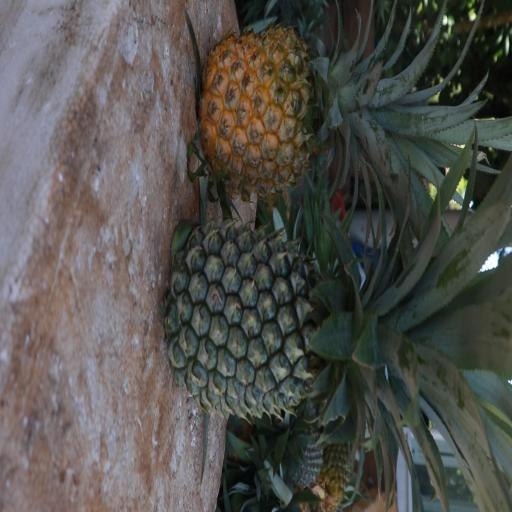Pineapple - v8 v1: (200, 35, 472, 196)
